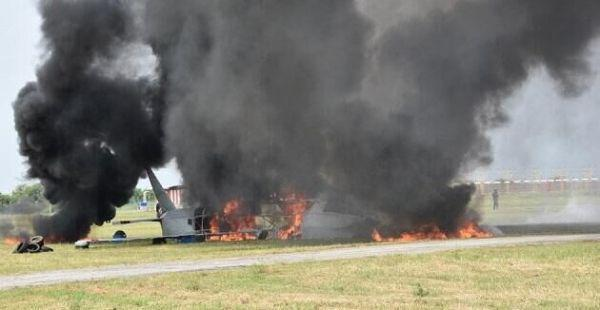fire: (369, 213, 494, 242), (203, 195, 260, 244), (267, 187, 316, 242), (3, 228, 25, 251)
